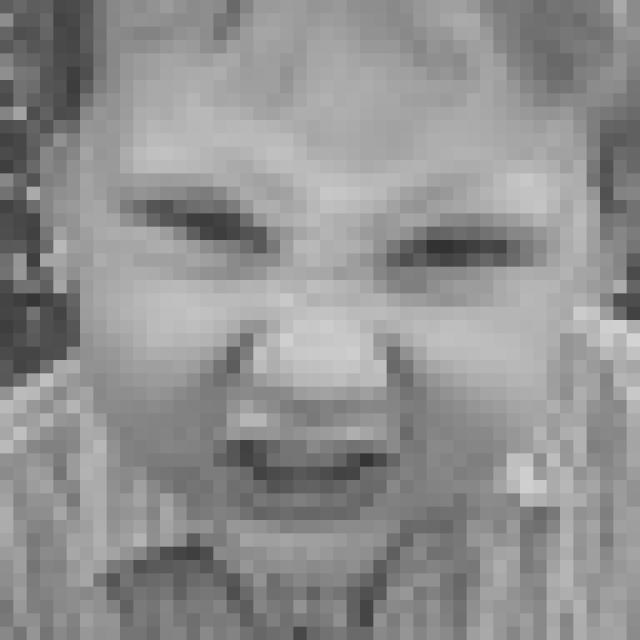angry: (113, 153, 552, 521)
